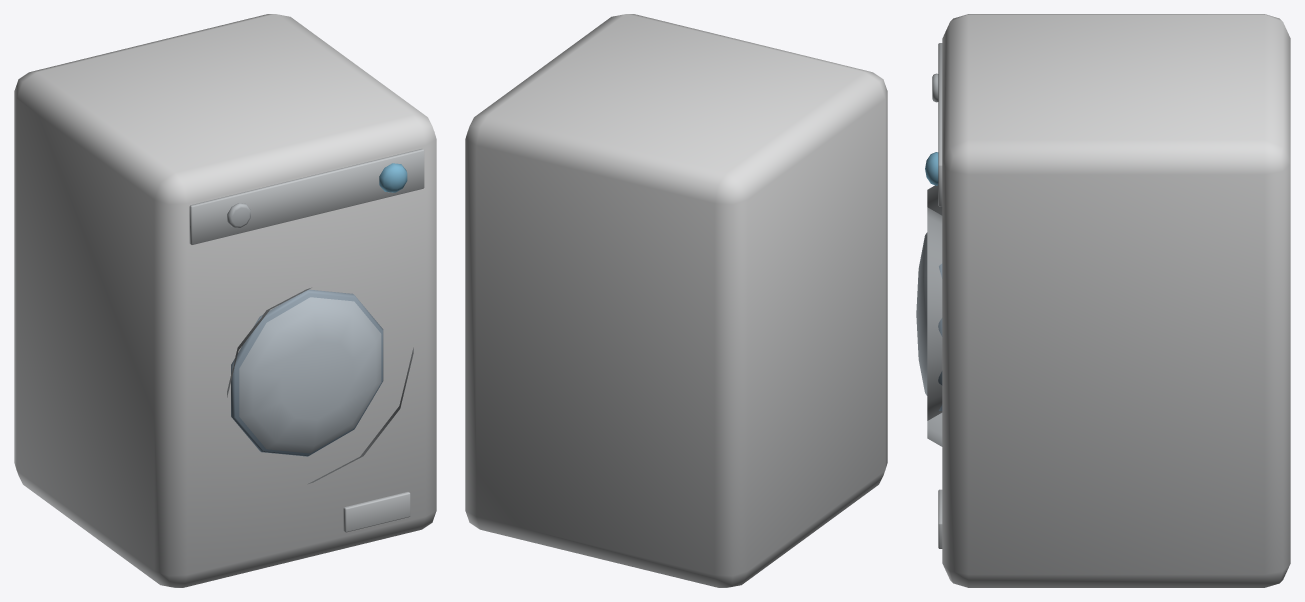
File: washing_machine.glb
The picture shows the model from 3 angles, left to right: view 1: azimuth 30°, elevation 25°; view 2: azimuth 150°, elevation 25°; view 3: azimuth 270°, elevation 25°; orthographic projection. The views are drawn at different scales.
Visible parts, largest first — view 1: washing_machine; view 2: washing_machine; view 3: washing_machine.
Boxes of the visible parts, x1=… form: washing_machine: x1=14, y1=14, x2=436, y2=587; washing_machine: x1=465, y1=14, x2=887, y2=587; washing_machine: x1=916, y1=14, x2=1290, y2=587.
Size of the model in its own units: 0.6 by 0.85 by 0.645.
